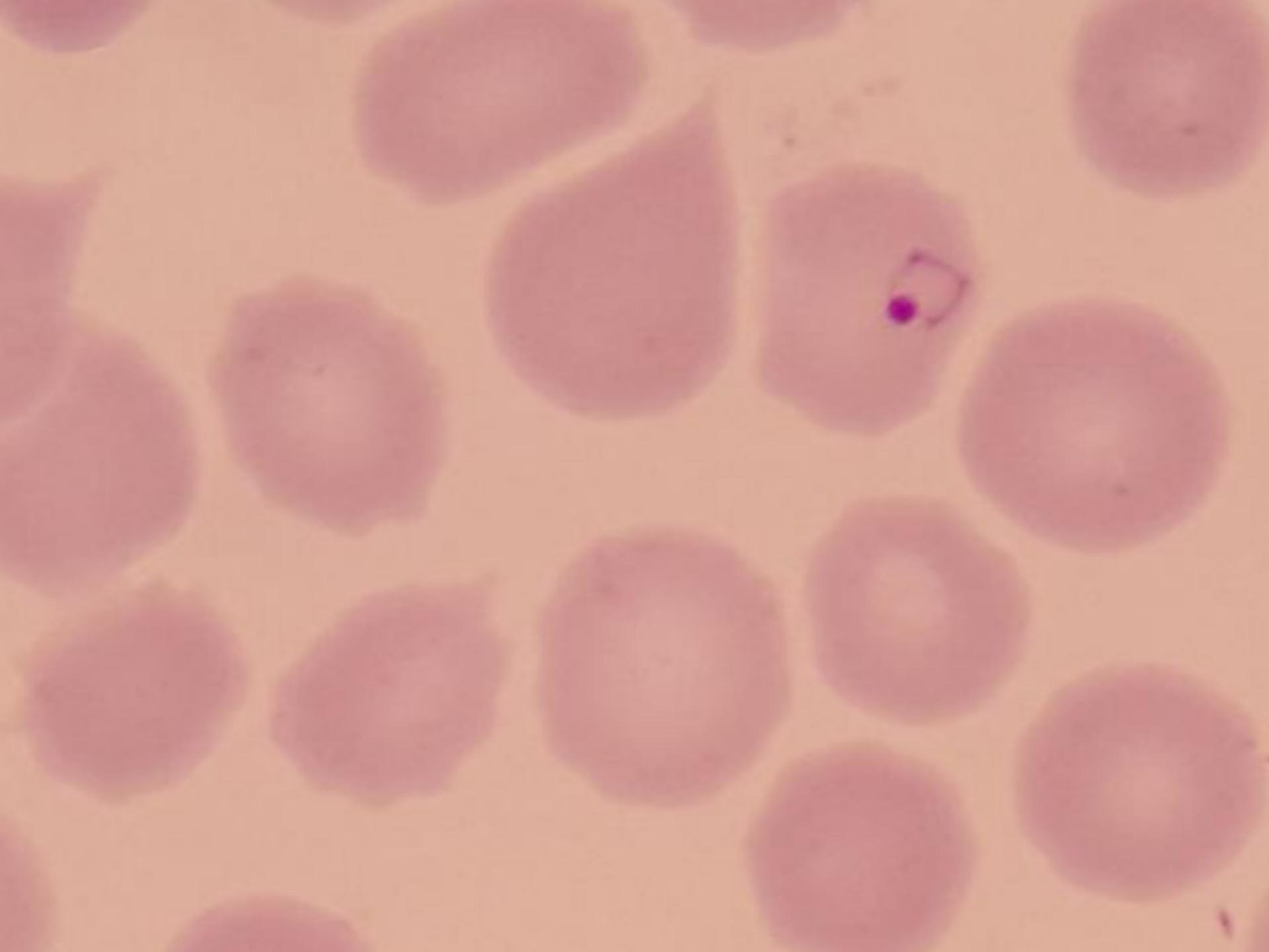Infected: (747, 162, 982, 435)
Uninfected: (482, 91, 745, 412), (539, 529, 789, 806), (957, 296, 1224, 551), (213, 279, 453, 532), (1018, 664, 1261, 900), (355, 0, 643, 194), (0, 317, 203, 585), (806, 494, 1032, 721), (278, 580, 500, 807), (15, 593, 248, 796), (749, 745, 976, 952), (1066, 0, 1269, 195)
